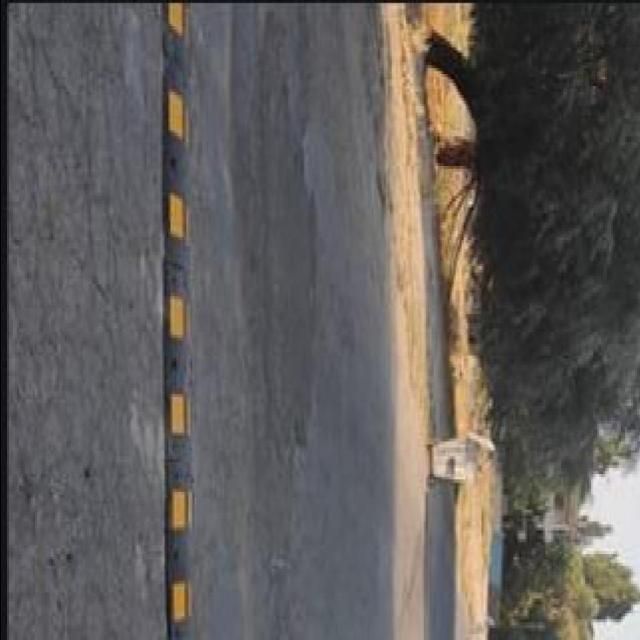Speed_Breaker: (158, 0, 196, 639), (162, 0, 194, 639)
